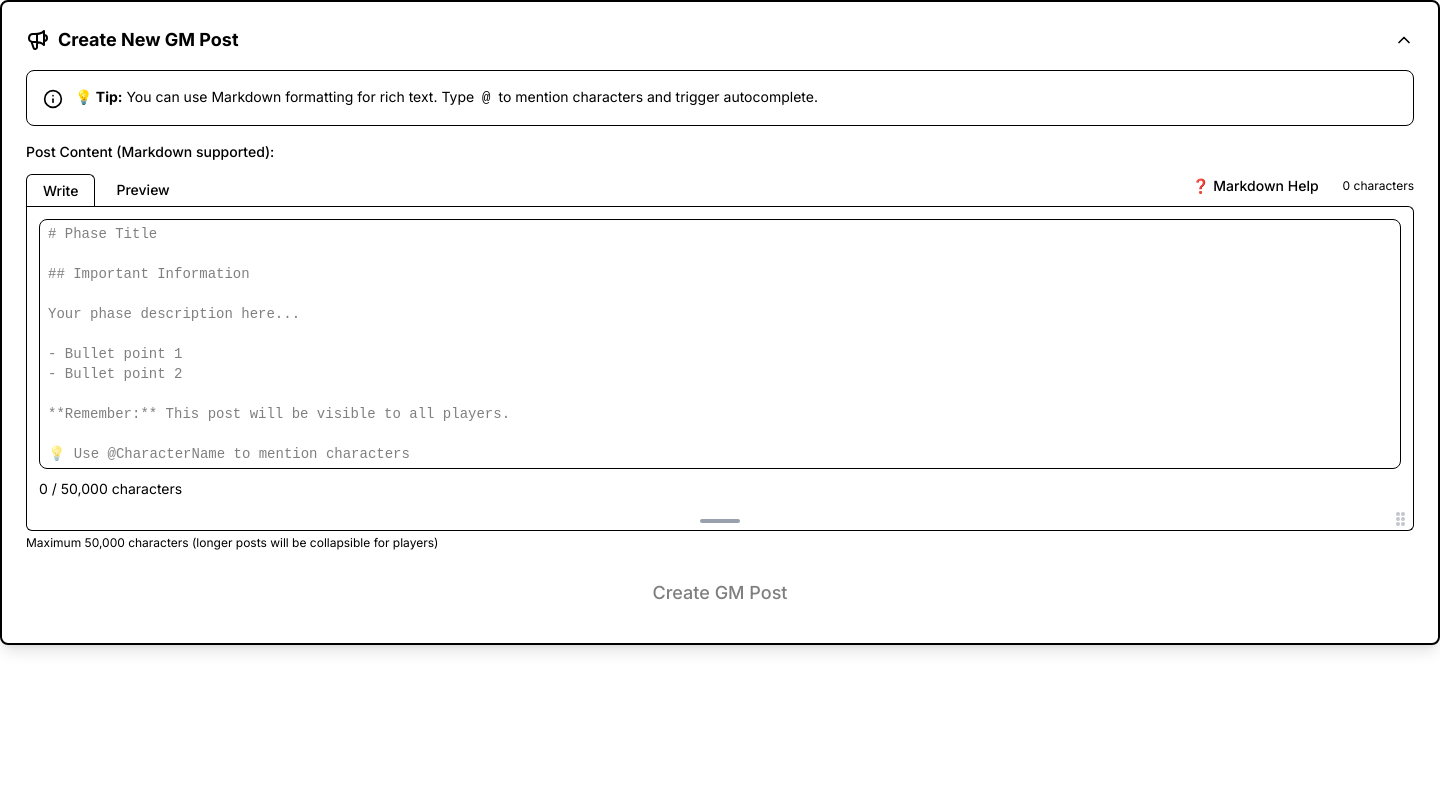
Test case: CreatePostForm › Error Handling › clears previous error on successful submission
The width and height of the screenshot is (1440, 810).
Type "Test content" into the text box labelled "Post Content (Markdown supported):".
click(720, 344); type("Test content")  # box [39, 219, 1401, 469]
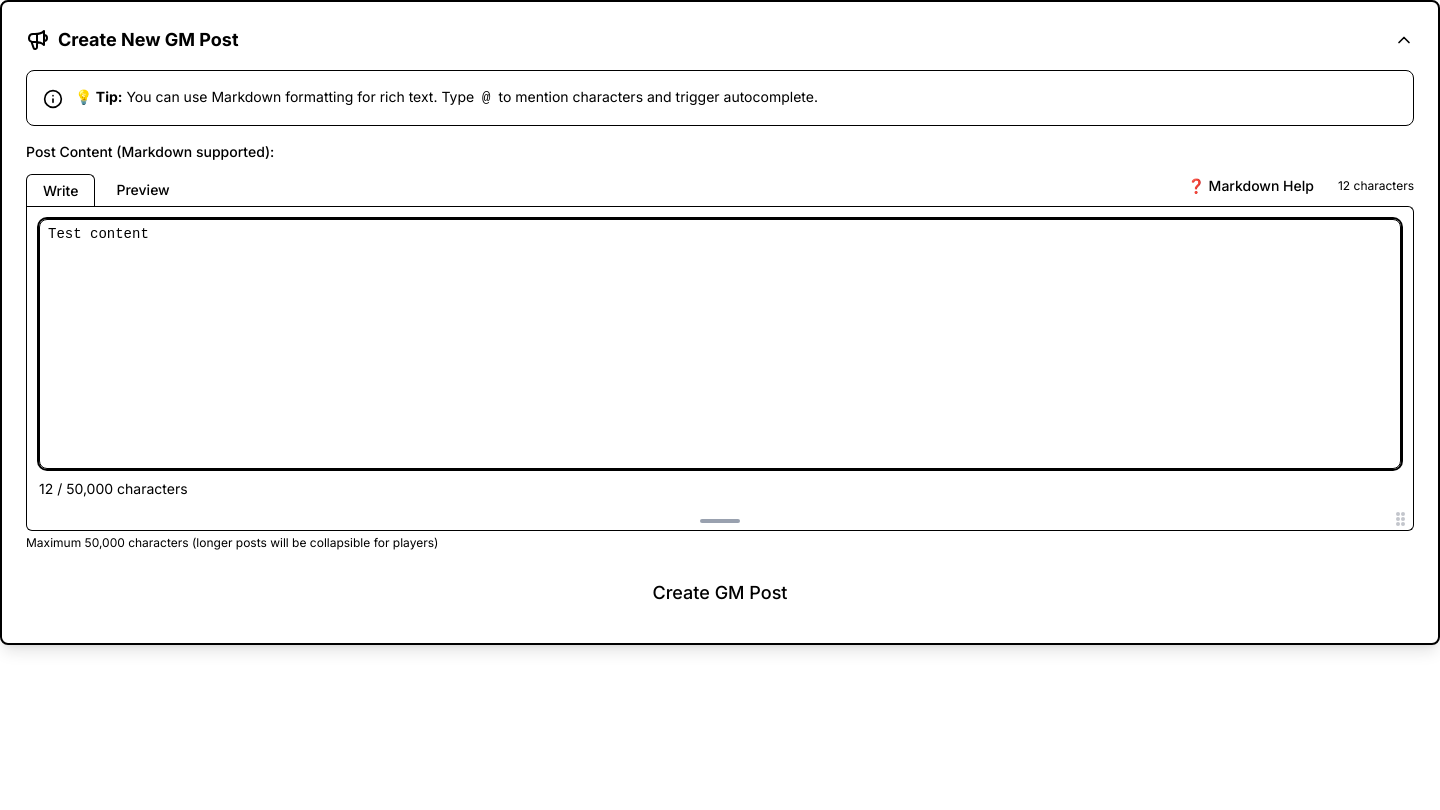
Click the button "Create GM Post".
click(720, 593)  # box [26, 567, 1414, 619]
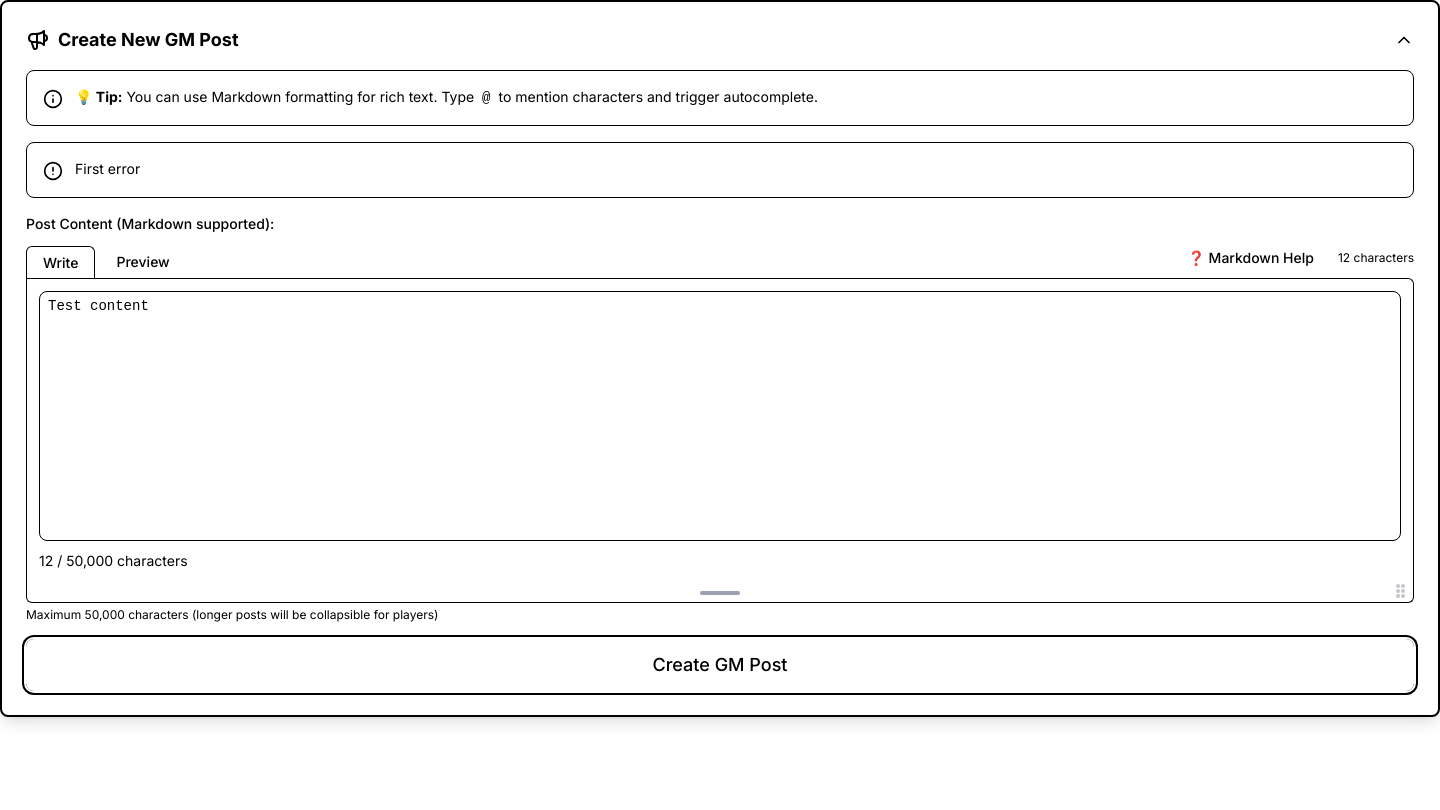
Expected: the text "First error" is shown, [75, 160, 140, 177]
Try again
Type "New content" into the text box labelled "Post Content (Markdown supported):".
click(720, 416); type("New content")  # box [39, 291, 1401, 541]
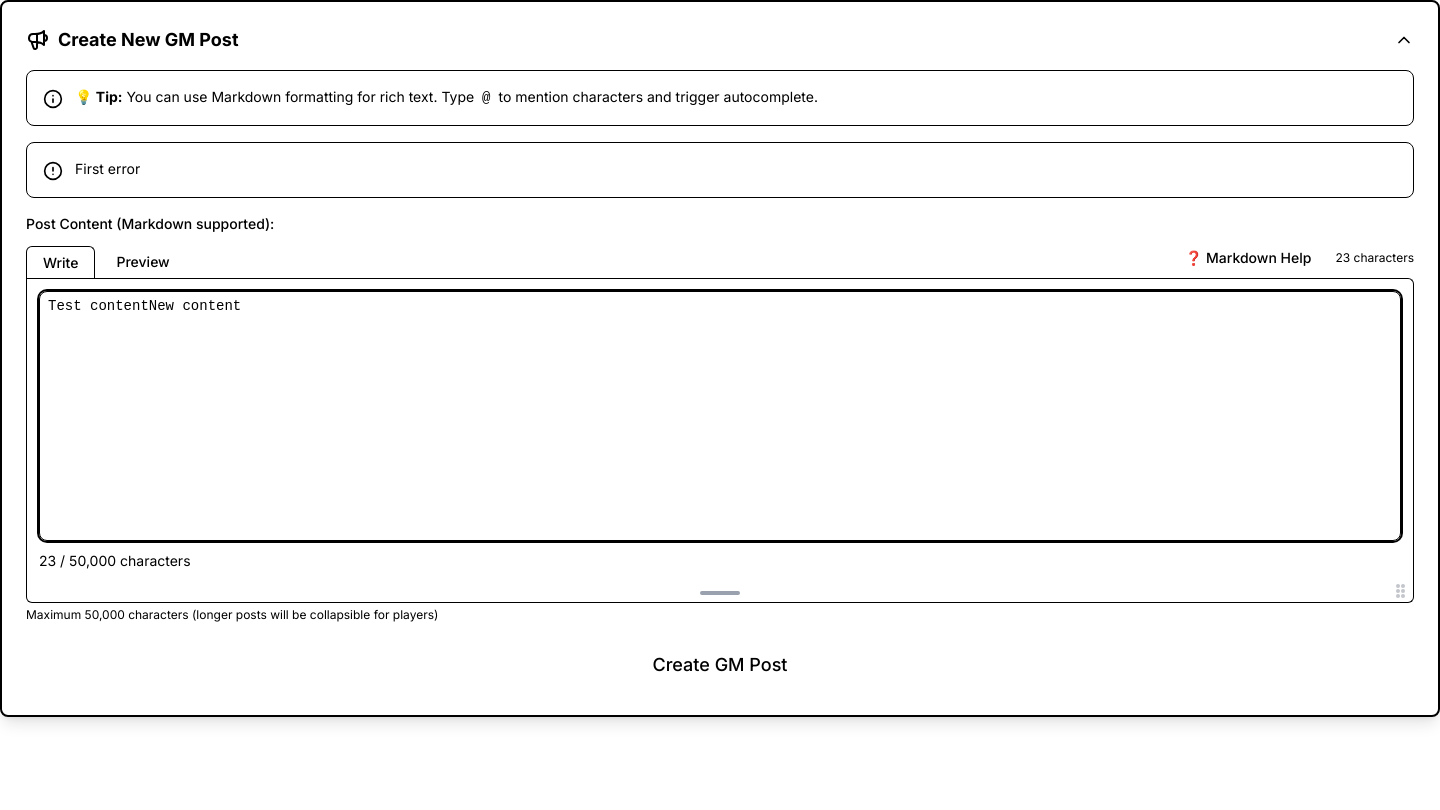
Click the button "Create GM Post".
click(720, 665)  # box [26, 639, 1414, 691]
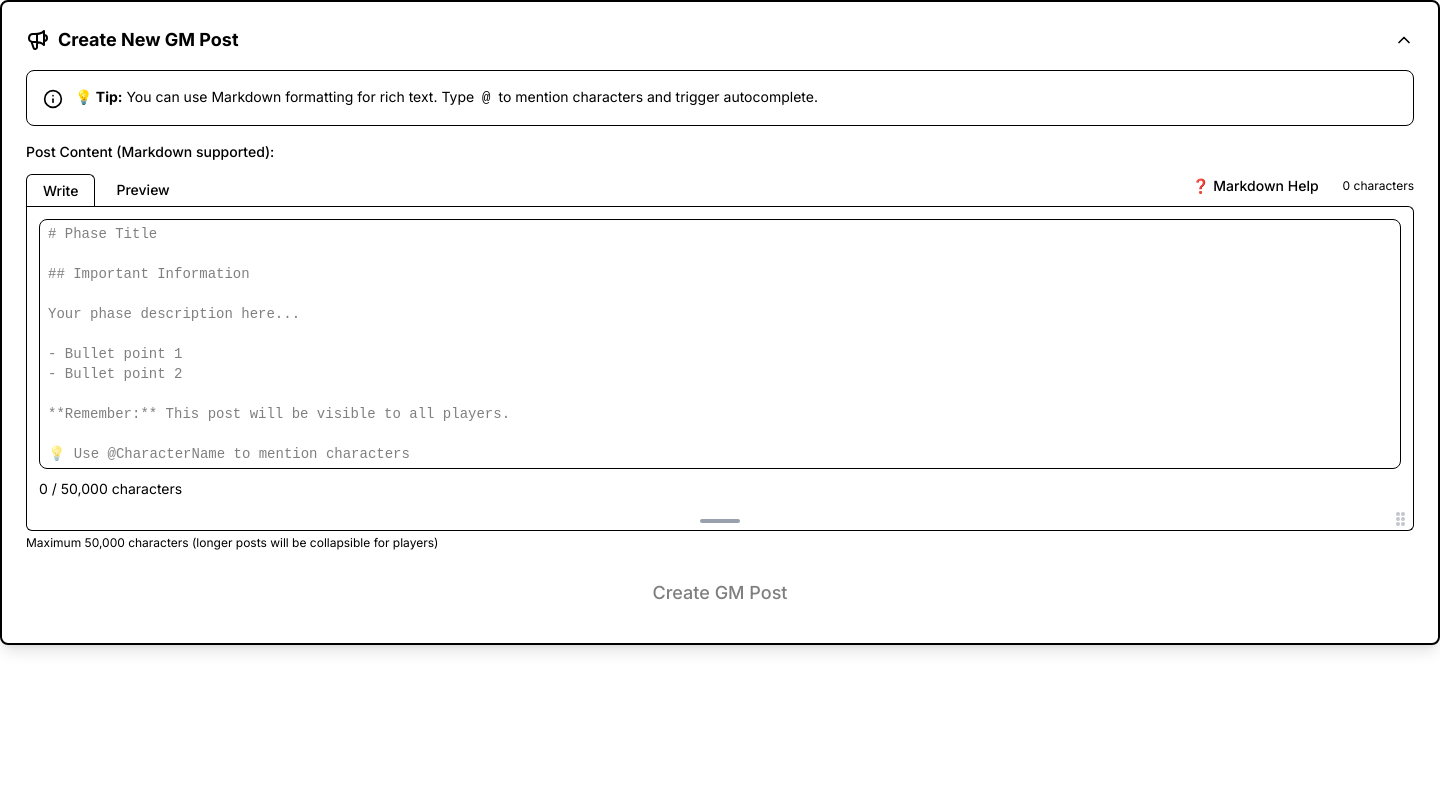
Expected: the text "First error" is gone
